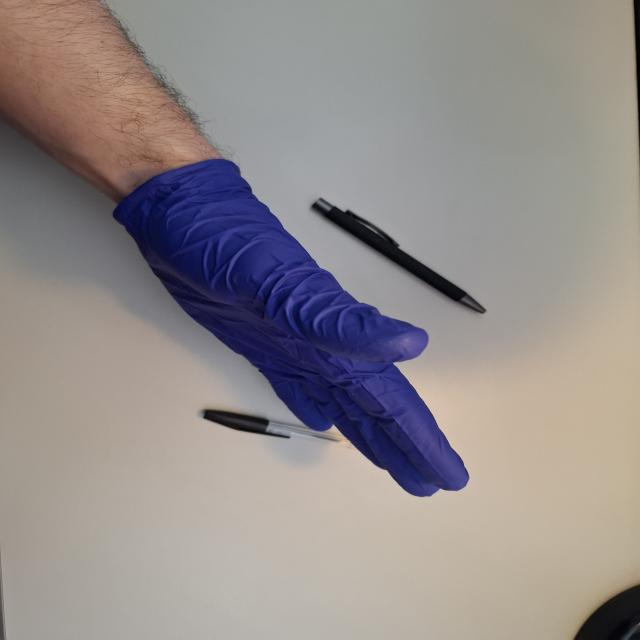glove_on: (108, 159, 474, 501)
